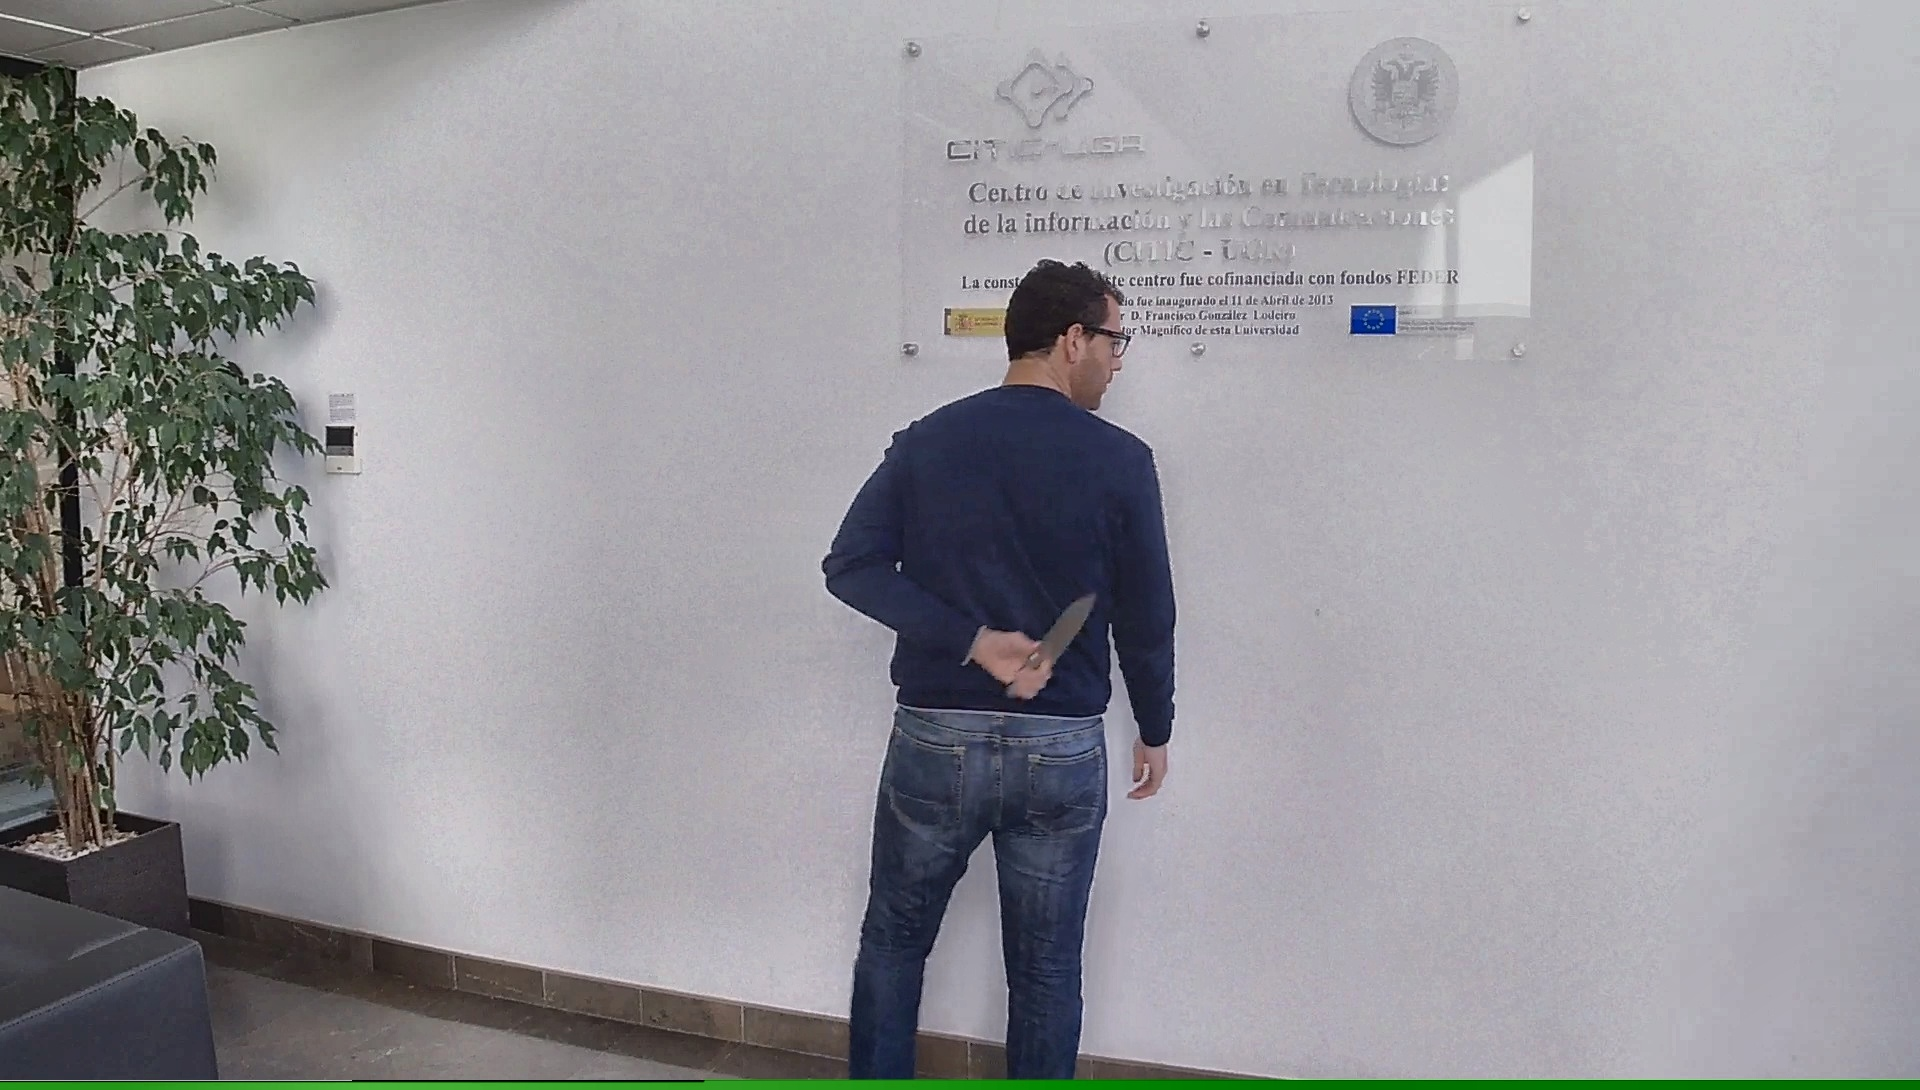knife: (997, 583, 1106, 703)
